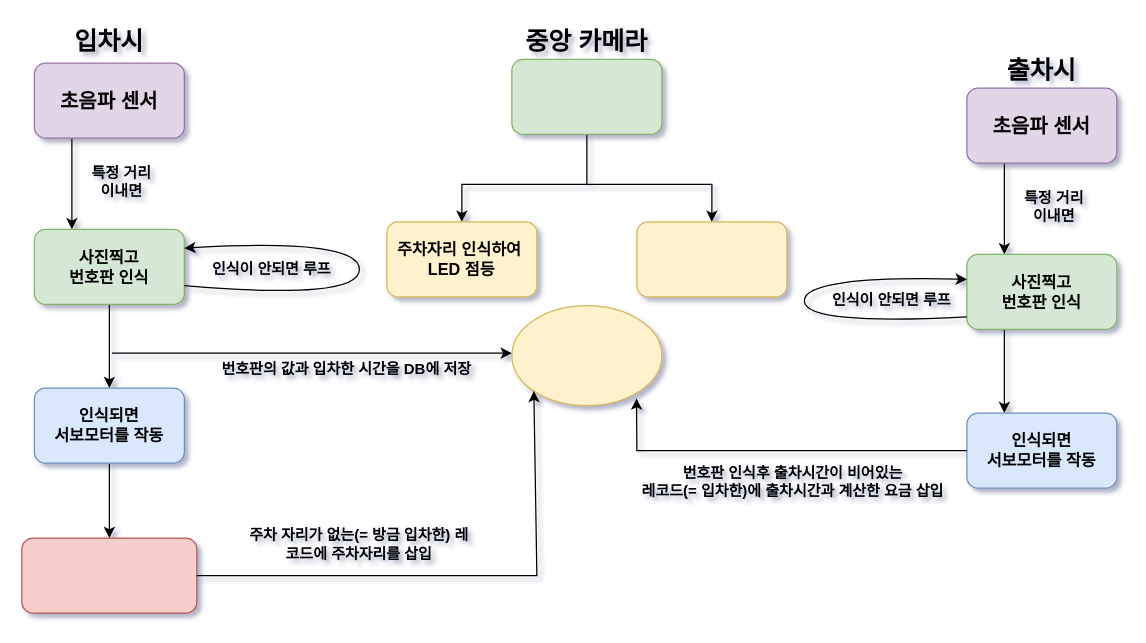
Image size: 1146x643. Some labels were removed from this diagram. Each missing label, with the centre of its shape:
"AWS MySQL" goes at (x=586, y=355).
"IR센서값으로 XOR연산하여 입차 감지" goes at (x=109, y=575).
"주차자리 인식하여 모니터에 표시" goes at (x=711, y=259).
"카메라가 주차자리 인식" goes at (x=586, y=96).
